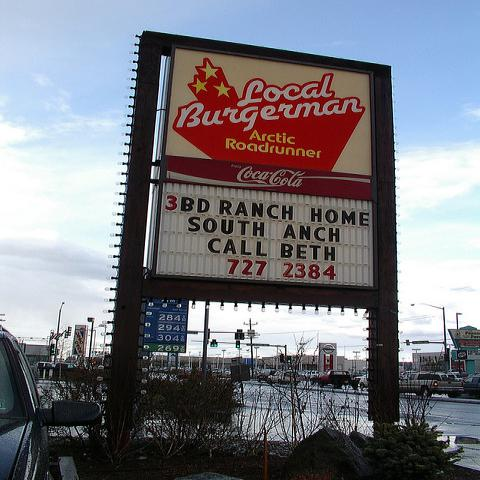car: (0, 323, 100, 479), (176, 368, 214, 381), (462, 375, 479, 400), (267, 371, 294, 385), (257, 368, 275, 383), (355, 374, 368, 387), (33, 360, 50, 367), (310, 373, 319, 385)
truck: (399, 372, 465, 398), (318, 370, 360, 389)
